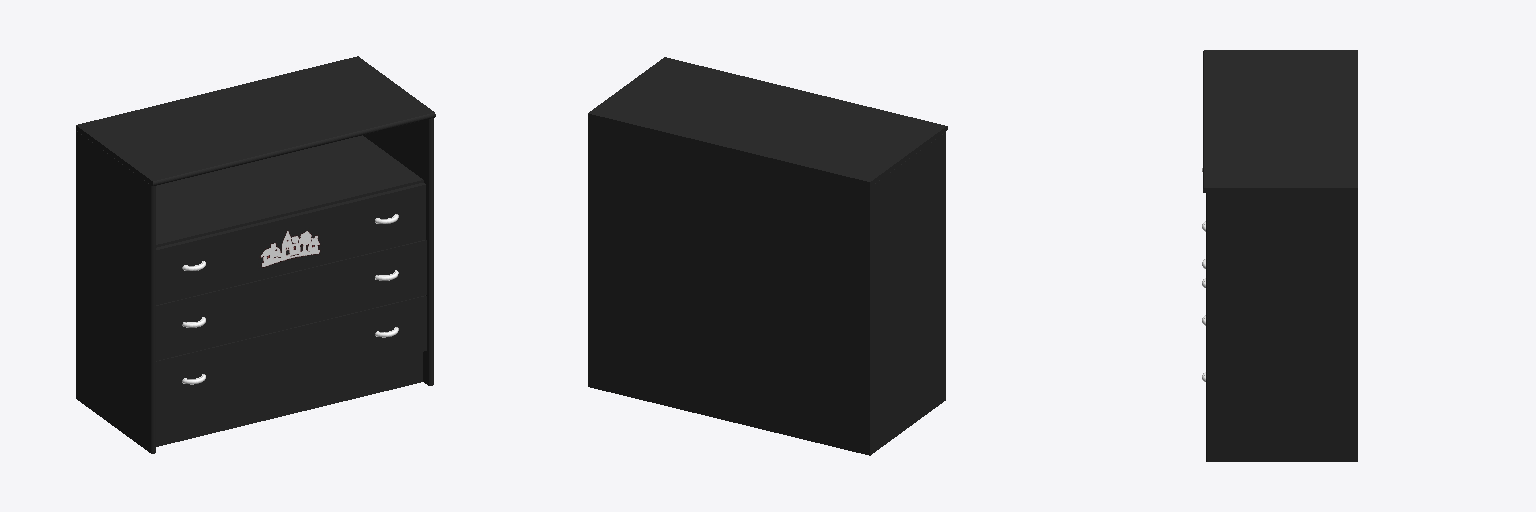
3 views of the same model, side by side, from view 1: azimuth 30°, elevation 25°; view 2: azimuth 150°, elevation 25°; view 3: azimuth 270°, elevation 25° (orthographic).
Visible parts, largest first — view 1: default_1_1, Cube_1_2; view 2: default_1_1; view 3: default_1_1.
Part boxes in pixels (bbox=[...]): default_1_1: bbox=[76, 56, 435, 453]; Cube_1_2: bbox=[156, 185, 425, 304]; default_1_1: bbox=[588, 57, 947, 455]; default_1_1: bbox=[1203, 50, 1357, 461].
Size of the model in its own units: 94 by 87 by 45.08.
Materials: 4 (1 with a texture image).